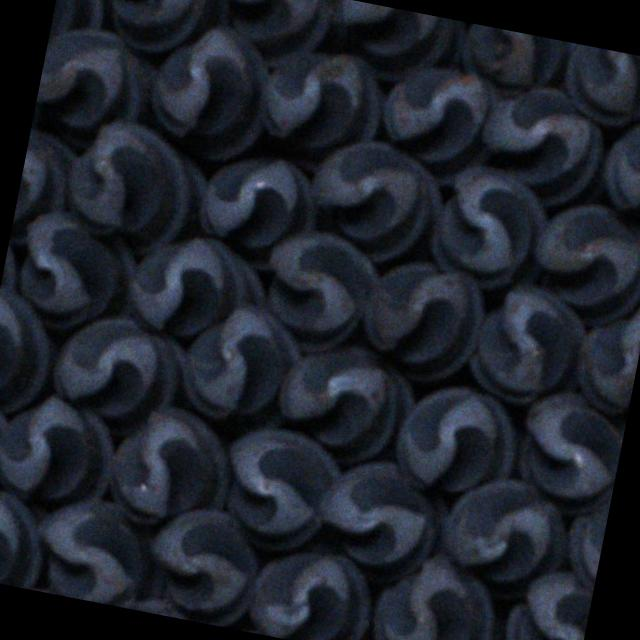tool_b: (61, 116, 213, 260), (298, 134, 449, 272), (142, 18, 280, 166), (271, 336, 423, 468), (44, 307, 190, 444), (251, 39, 392, 180), (470, 76, 610, 216), (212, 418, 348, 562), (174, 295, 310, 438), (27, 486, 178, 614), (100, 398, 238, 538), (354, 252, 491, 388), (8, 204, 146, 339), (252, 221, 384, 360), (121, 228, 273, 348), (310, 450, 448, 582), (437, 466, 578, 594), (136, 498, 268, 632), (463, 276, 594, 411), (192, 144, 324, 276), (426, 158, 554, 294), (391, 376, 527, 501), (372, 57, 498, 191), (510, 383, 630, 522), (0, 387, 124, 519), (521, 197, 640, 333), (34, 20, 160, 138), (365, 540, 506, 640), (244, 539, 378, 640), (330, 0, 468, 89), (85, 0, 236, 68), (566, 289, 640, 420), (459, 23, 576, 104), (9, 126, 83, 252), (0, 287, 61, 418), (494, 562, 595, 640), (558, 43, 640, 137), (210, 0, 335, 54), (593, 104, 640, 240), (0, 485, 53, 591)
